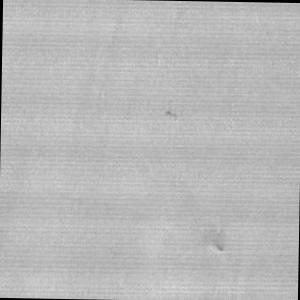Damage: (200, 210, 240, 267)
Stain: (163, 107, 179, 123)
